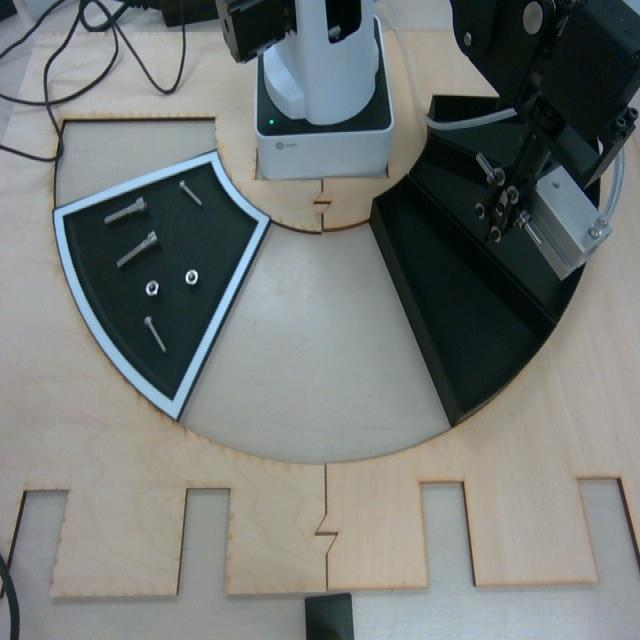Big Bolt: (116, 230, 160, 268), (103, 194, 150, 226)
Metal Nut: (184, 268, 201, 288), (144, 279, 161, 299)
Small Bolt: (143, 315, 167, 354), (178, 178, 204, 209)
